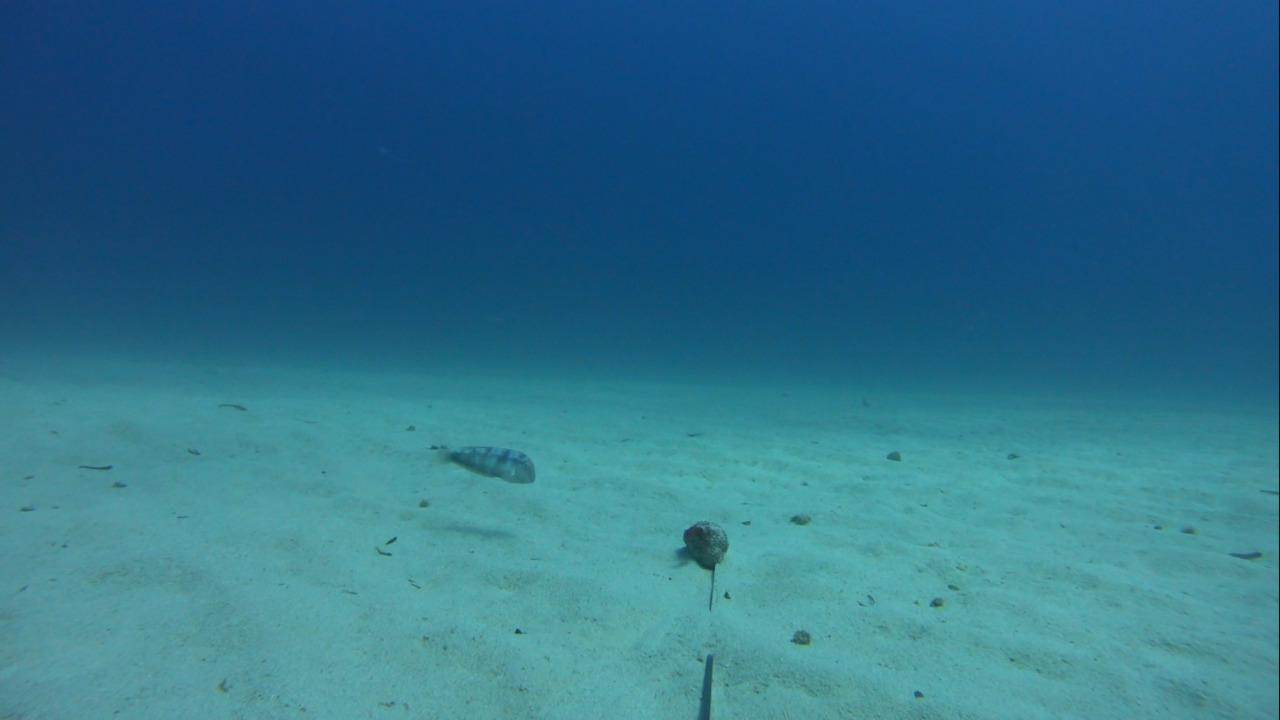raor: (430, 443, 538, 486)
